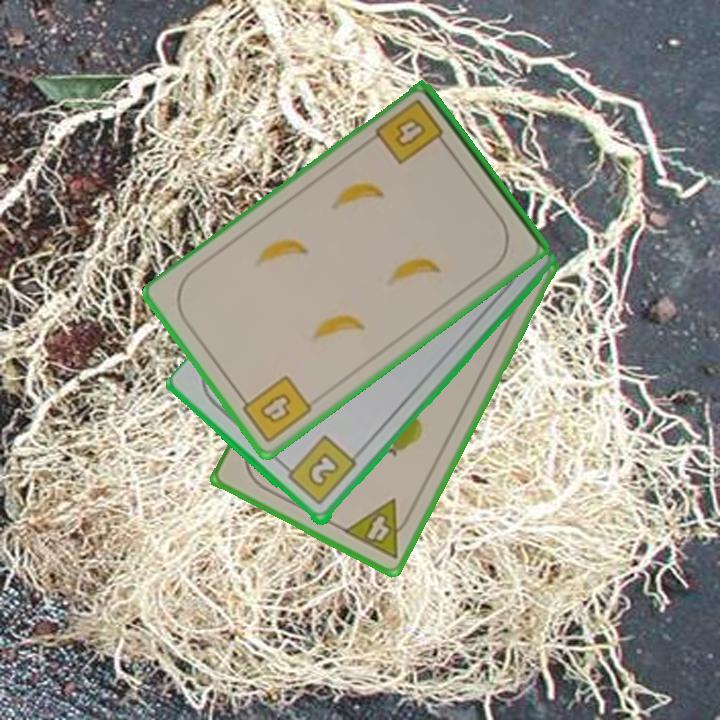2b: (279, 432, 360, 509)
4b: (234, 372, 315, 447), (371, 96, 452, 168)
4p: (339, 495, 417, 562)
